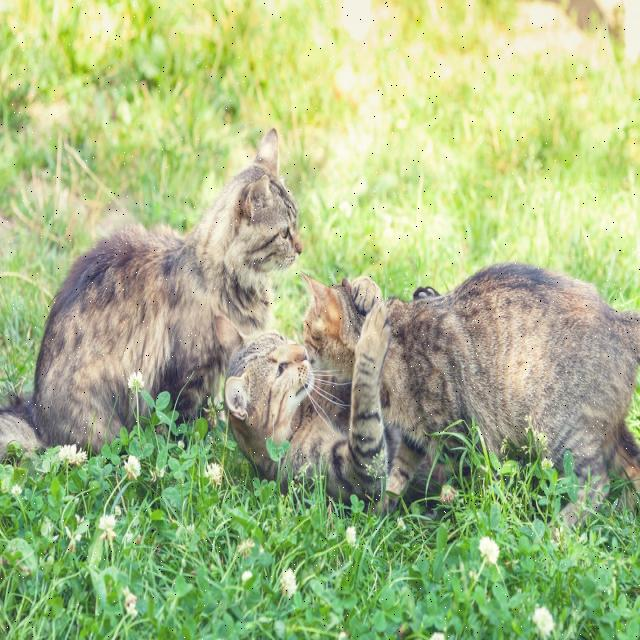cat: (0, 129, 302, 457), (381, 262, 640, 500), (216, 302, 390, 502), (302, 276, 361, 379)
